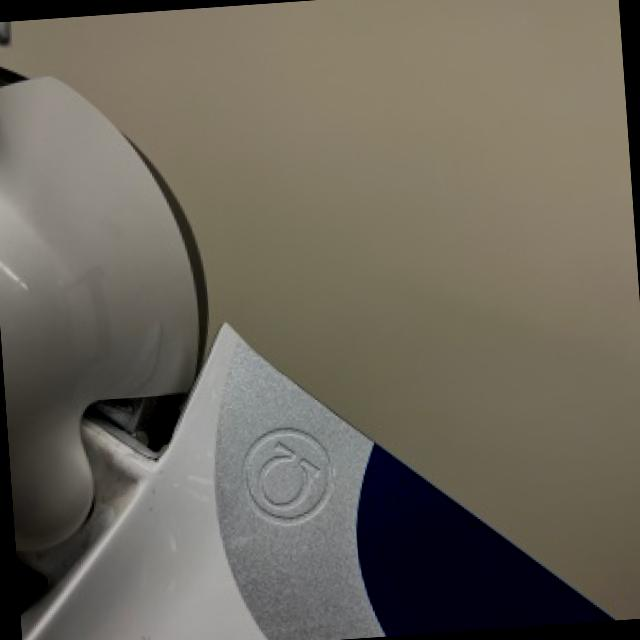healthy: (0, 0, 640, 618), (0, 76, 203, 547)
